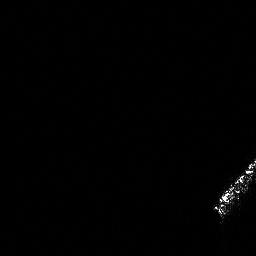ship: (209, 154, 256, 224)
